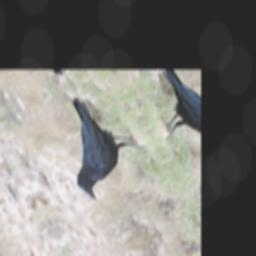Crow: (34, 84, 161, 203)
